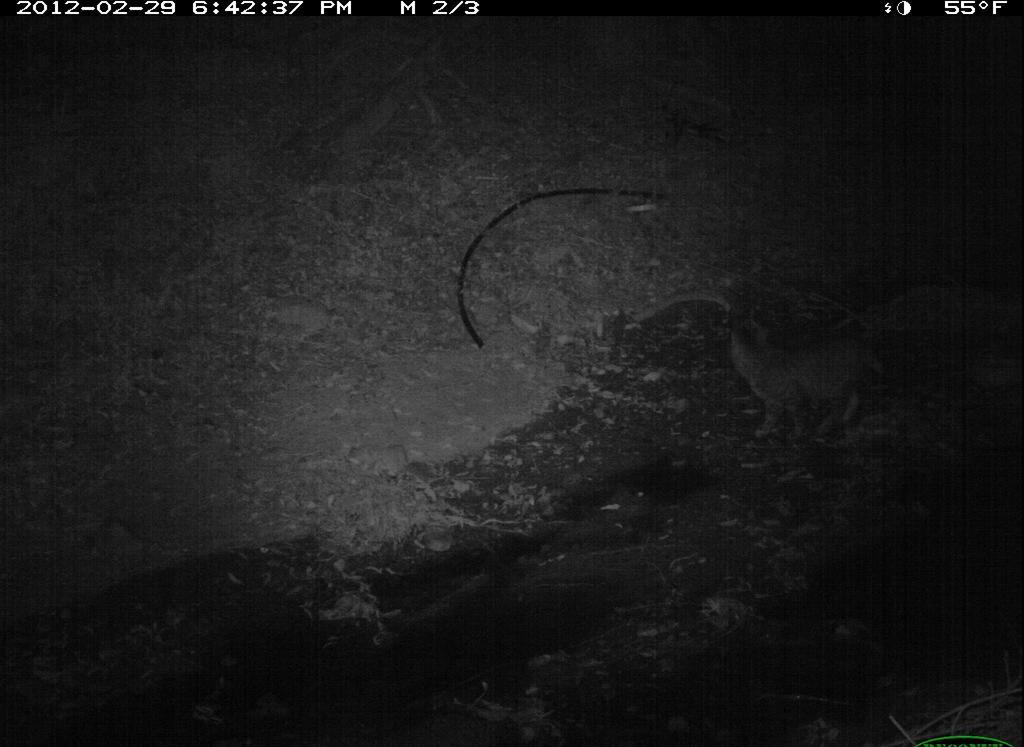cat: (724, 312, 895, 450)
